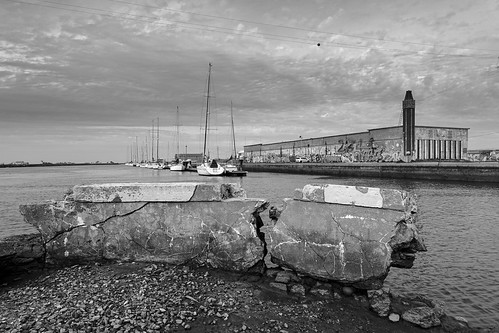boat: (192, 64, 229, 176), (167, 96, 189, 173)
building: (238, 119, 467, 170)
sky: (1, 1, 499, 141)
wall: (1, 173, 425, 296)
